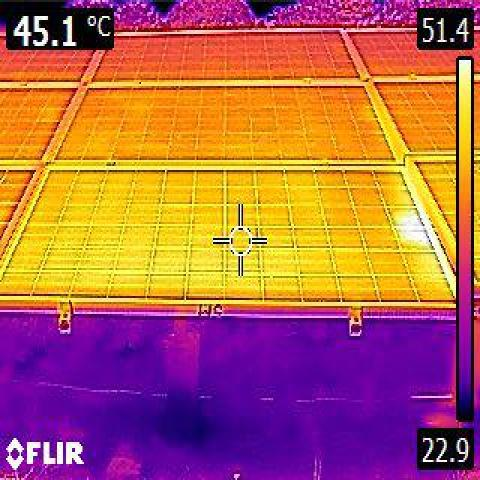fault: (398, 211, 430, 245)
